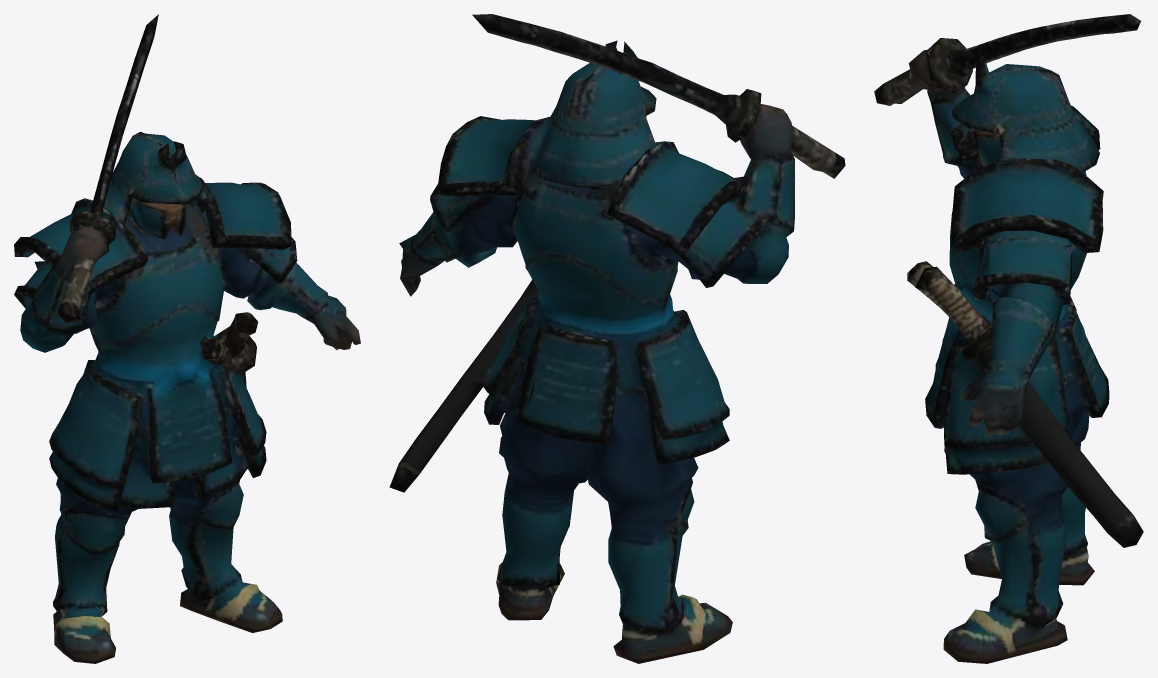
Rendered from detail_4_lo2.glb.
The picture shows the model from 3 angles, left to right: view 1: azimuth 30°, elevation 25°; view 2: azimuth 150°, elevation 25°; view 3: azimuth 270°, elevation 25°; orthographic projection. The views are drawn at different scales.
Visible parts, largest first — view 1: Mesh_0.001; view 2: Mesh_0.001; view 3: Mesh_0.001.
Boxes of the visible parts, x1,y1,x2,y2 form: Mesh_0.001: [14, 14, 360, 663]; Mesh_0.001: [389, 14, 845, 663]; Mesh_0.001: [874, 14, 1143, 663].
Size of the model in its own units: 0.6458 by 1 by 0.3947.
Materials: 1 (1 with a texture image).
